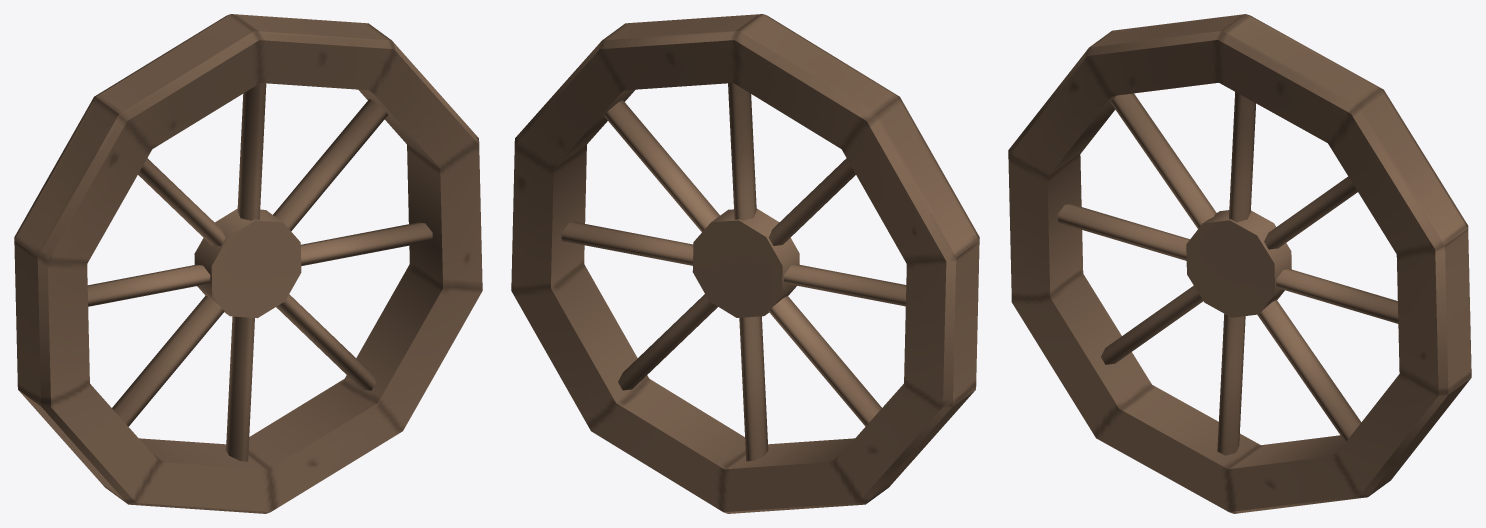
The model's file is wheel_mesh.fbx.
3 renders of one model, left to right at view 1: azimuth 30°, elevation 25°; view 2: azimuth 150°, elevation 25°; view 3: azimuth 330°, elevation 25°, orthographic.
Parts seen in each view (by area): view 1: polySurface114; view 2: polySurface114; view 3: polySurface114.
Boxes of the visible parts, box(x1,y1,x2,y2) form: polySurface114: box(14, 14, 482, 513); polySurface114: box(511, 14, 979, 513); polySurface114: box(1008, 14, 1471, 513).
Bounding box in the file's own units: 99.92 × 104 × 12.95.
